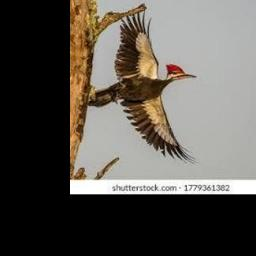Woodpecker: (86, 10, 199, 166)
